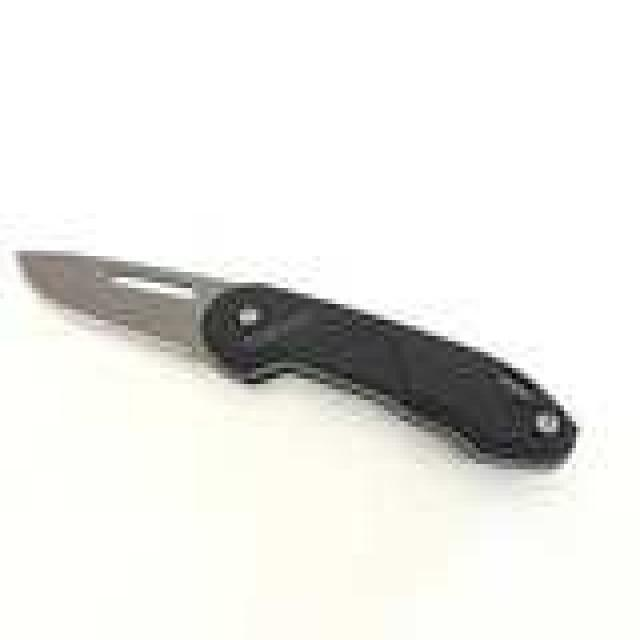knife: (10, 246, 580, 486)
